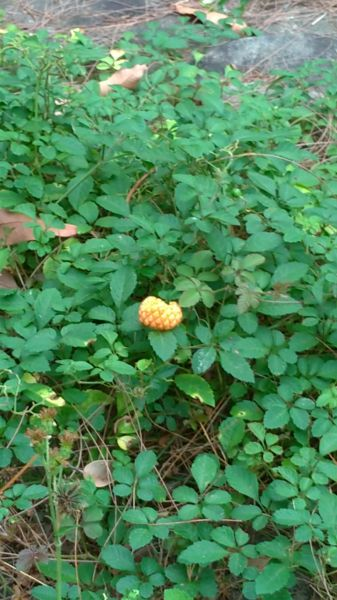eggs: (132, 290, 188, 334)
